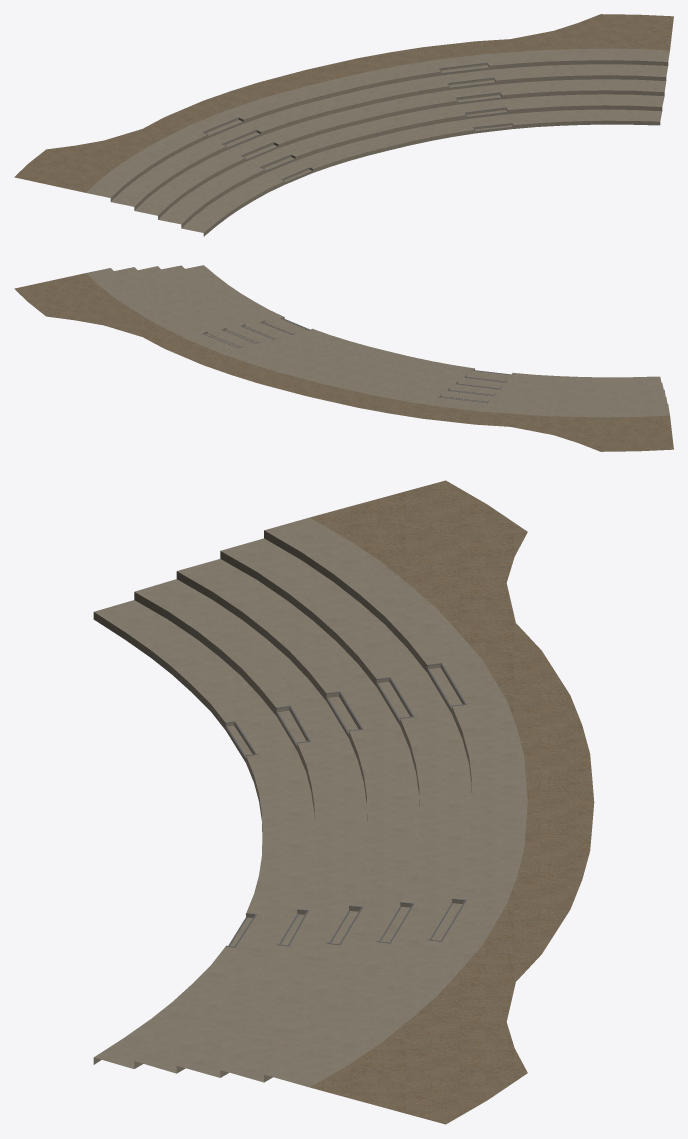
Rendered from ULT_Floor_Staircase.FBX.
3 renders of one model, top to bottom at view 1: azimuth 30°, elevation 25°; view 2: azimuth 150°, elevation 25°; view 3: azimuth 270°, elevation 25°, orthographic. The views are drawn at different scales.
Parts seen in each view (by area): view 1: ULT_Floor_Staircase; view 2: ULT_Floor_Staircase; view 3: ULT_Floor_Staircase.
Boxes of the visible parts, left/top/right/bottom form: ULT_Floor_Staircase: left=14, top=14, right=673, bottom=236; ULT_Floor_Staircase: left=14, top=265, right=673, bottom=451; ULT_Floor_Staircase: left=93, top=480, right=594, bottom=1124.
Size of the model in its own units: 40073 by 1161 by 13159.
